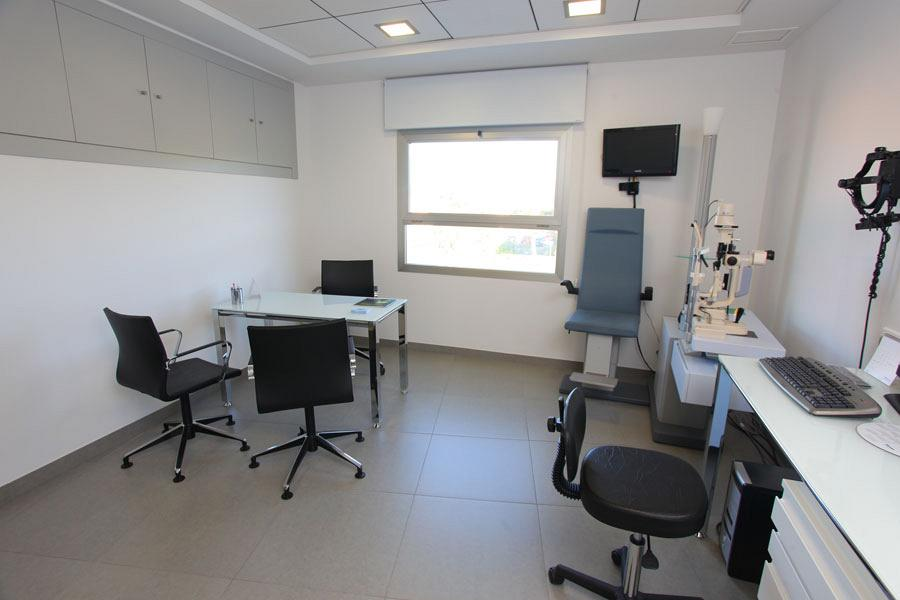bedside_monitor: (602, 123, 680, 177)
cabinet: (2, 9, 318, 183)
chair: (547, 387, 707, 600), (102, 306, 251, 483), (247, 317, 366, 500), (310, 260, 386, 376)
computer: (715, 456, 804, 577)
exam_table: (561, 207, 654, 392)
handle: (154, 92, 163, 103), (140, 87, 148, 98), (248, 116, 256, 126), (259, 119, 265, 129)
keyboard: (759, 356, 882, 417)
table: (698, 354, 900, 600), (211, 291, 408, 429)
